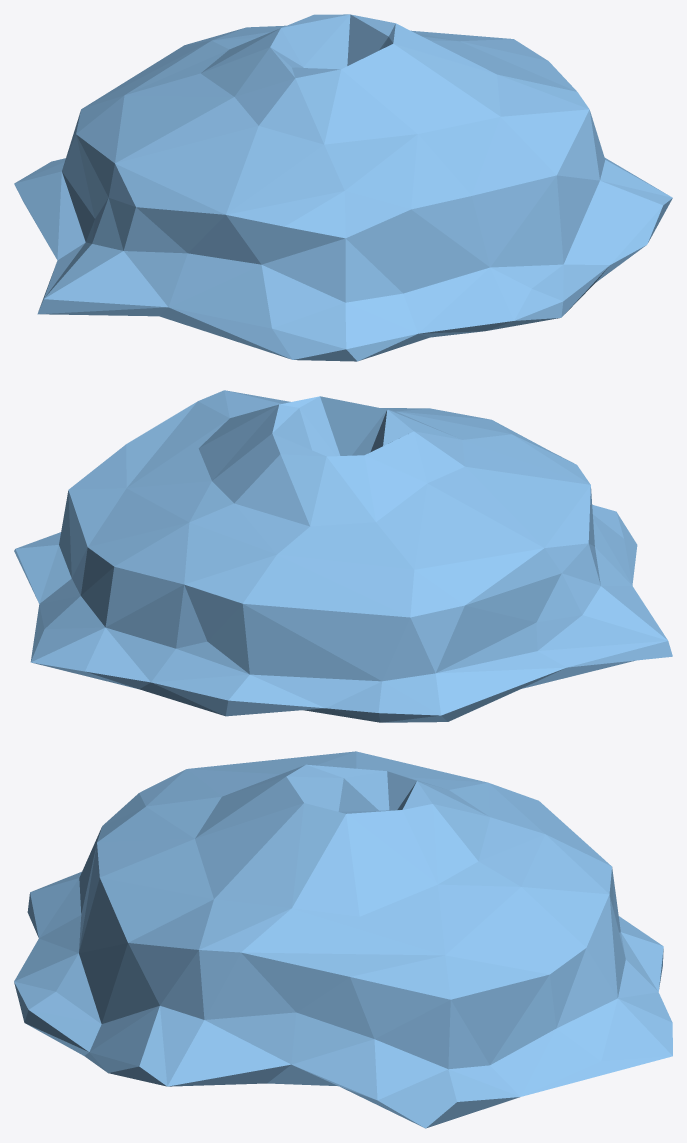
The model's file is olimpo.fbx.
3 views of the same model, one above another, from view 1: azimuth 30°, elevation 25°; view 2: azimuth 150°, elevation 25°; view 3: azimuth 270°, elevation 25° (orthographic). The views are drawn at different scales.
Parts seen in each view (by area): view 1: PM3D_Cylinder3D1_1; view 2: PM3D_Cylinder3D1_1; view 3: PM3D_Cylinder3D1_1.
Boxes of the visible parts, x1,y1,x2,y2 form: PM3D_Cylinder3D1_1: (14,14,672,361); PM3D_Cylinder3D1_1: (14,390,672,722); PM3D_Cylinder3D1_1: (14,751,672,1128).
Bounding box in the file's own units: 14.06 × 4.13 × 12.2.
